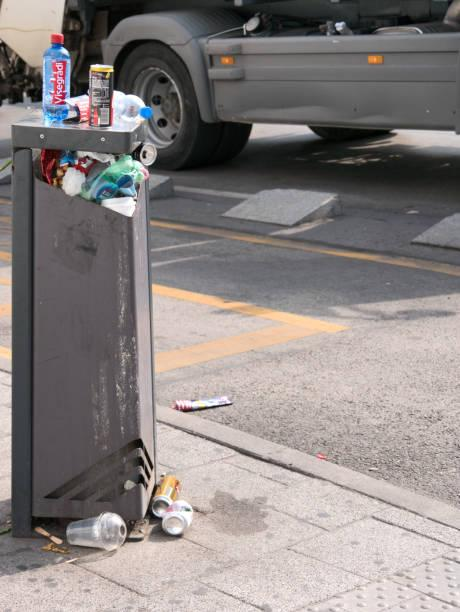trash: (31, 25, 157, 130), (32, 138, 163, 221), (28, 509, 136, 564), (141, 461, 199, 544), (167, 379, 243, 420)
trash_can_overflow: (9, 22, 239, 570)
